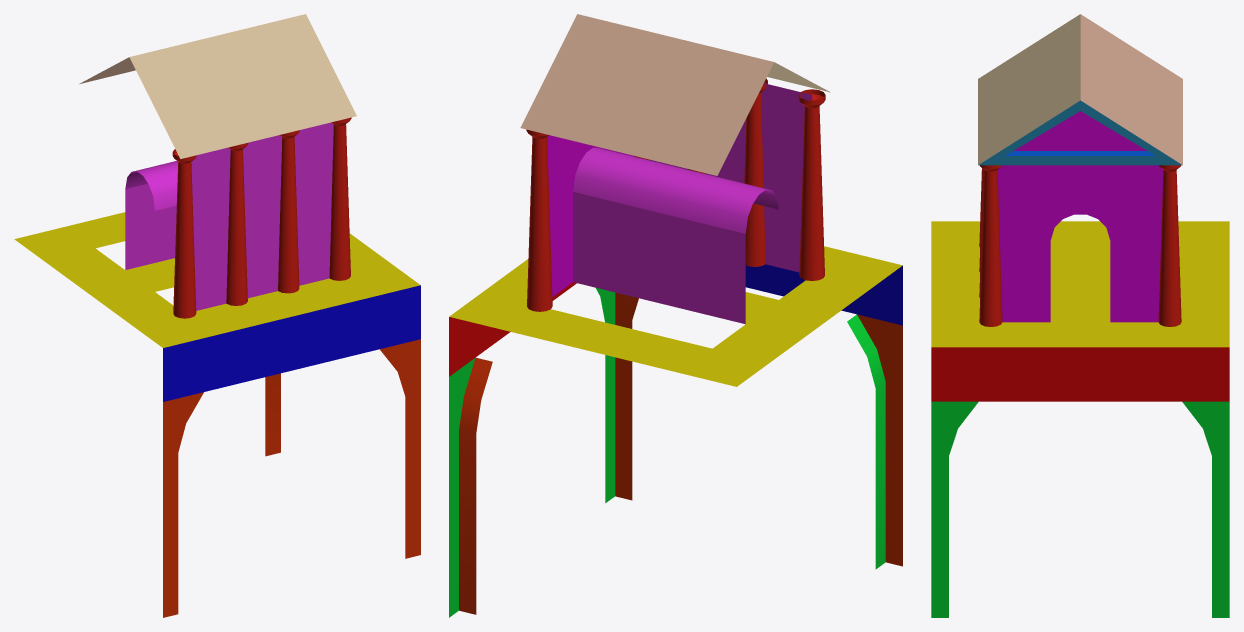
Rendered from Templo1.fbx.
3 views of the same model, side by side, from view 1: azimuth 30°, elevation 25°; view 2: azimuth 150°, elevation 25°; view 3: azimuth 270°, elevation 25° (orthographic). The views are drawn at different scales.
Parts seen in each view (by area): view 1: Templo1; view 2: Templo1; view 3: Templo1.
Boxes of the visible parts, bbox=[...] form: Templo1: bbox=[14, 14, 420, 617]; Templo1: bbox=[449, 14, 902, 617]; Templo1: bbox=[931, 14, 1229, 617].
Bounding box in the file's own units: 500 × 920 × 500.
